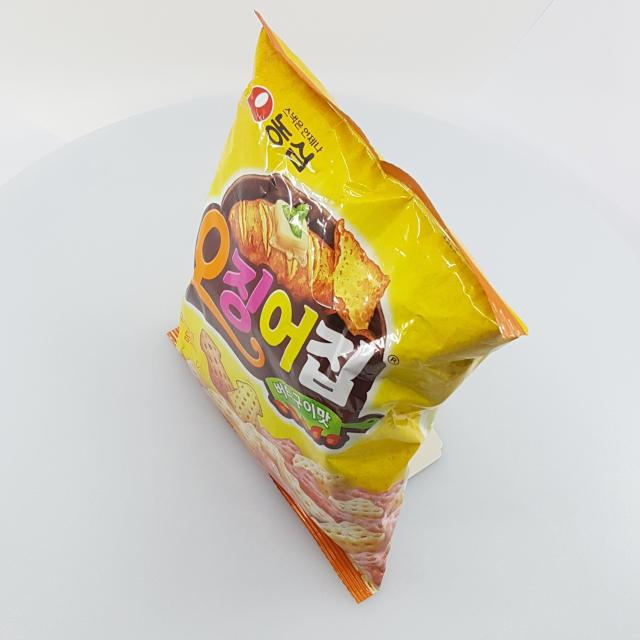-83G: (167, 10, 529, 605)
